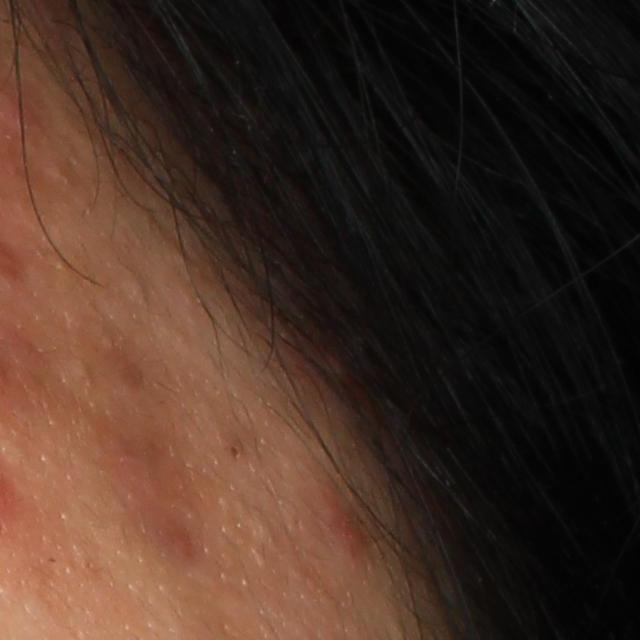papule: (305, 485, 368, 551)
